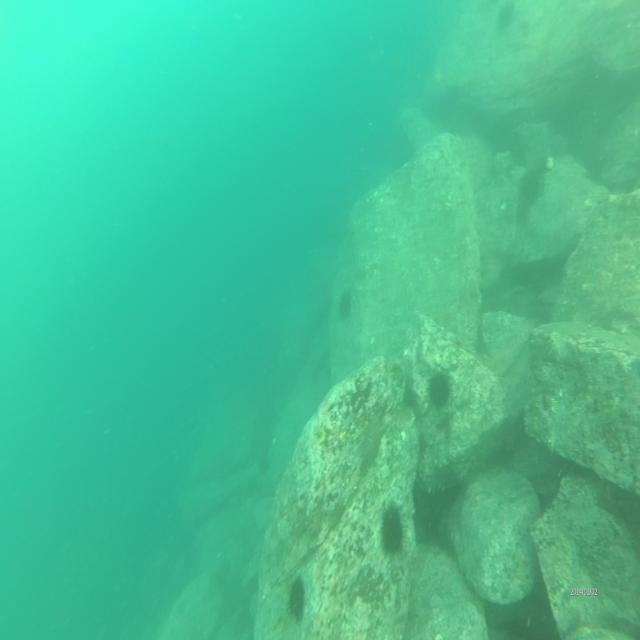echinus: (380, 499, 406, 563), (426, 366, 456, 414), (287, 568, 308, 626), (339, 289, 354, 325), (259, 454, 271, 478)
